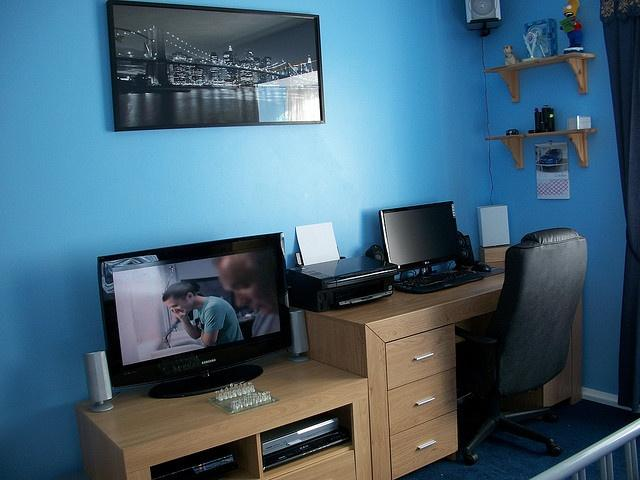AIO PC-Monitor-TV: (94, 231, 293, 401), (378, 199, 461, 277)
Kursi: (457, 226, 587, 464)
Printer: (283, 220, 400, 312)
